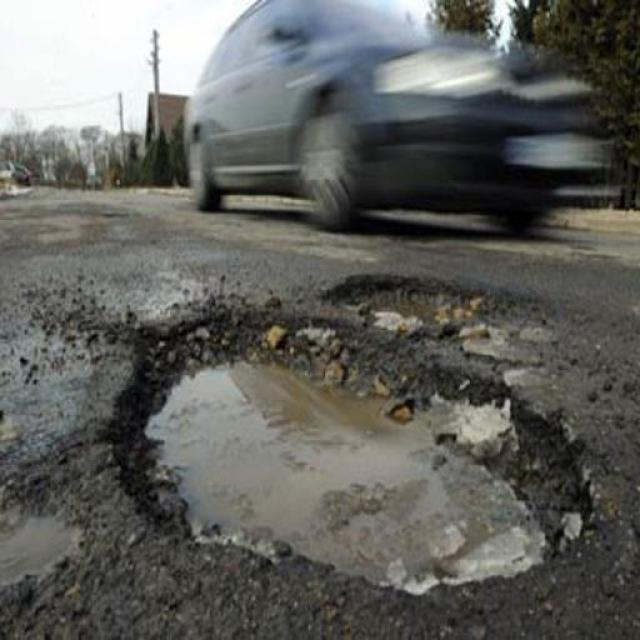puddle: (165, 361, 510, 595)
